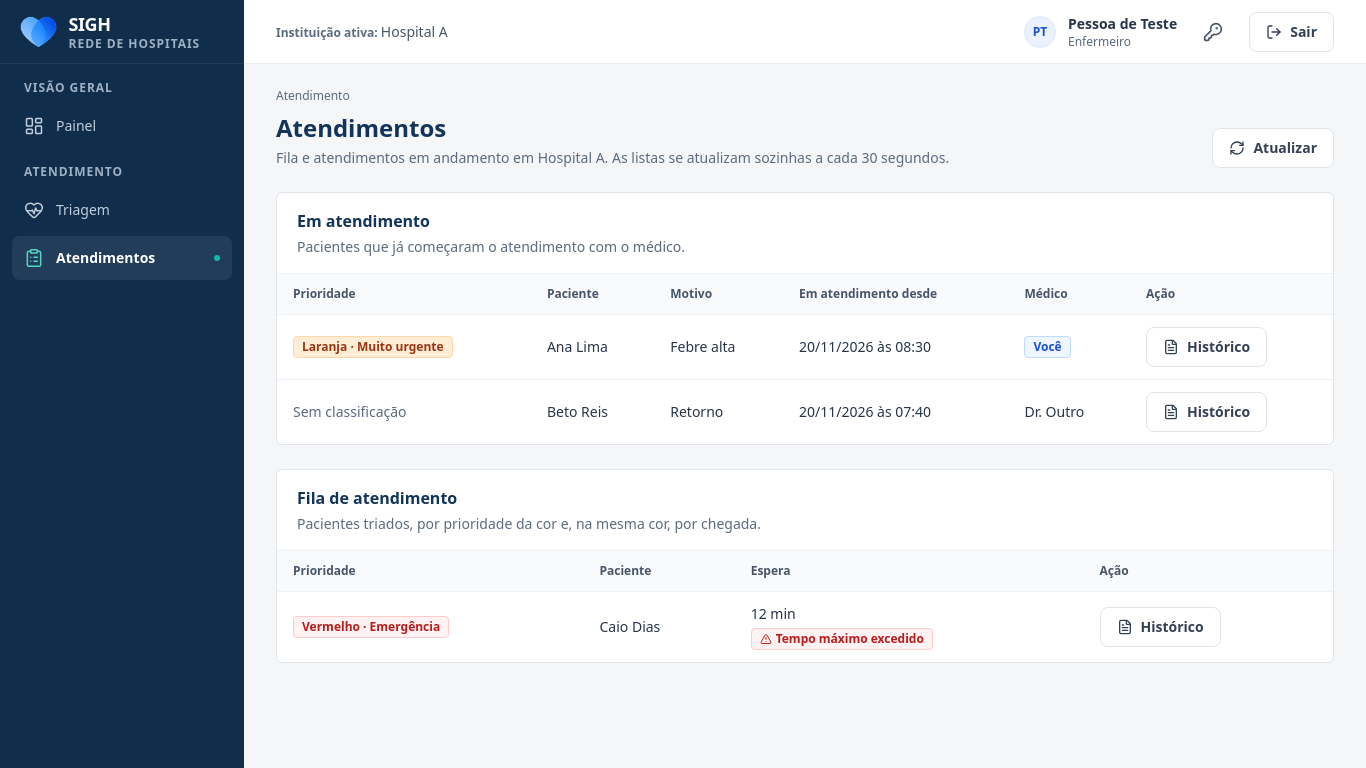
FE-07: listas do médico › o enfermeiro vê as listas, sem abrir o atendimento: consulta o histórico
expect the text "Ana Lima" is shown: met, box [547,337,608,356]
Click the button with aria-label "Histórico de Ana Lima" at (1207, 347), box [1146,327,1267,367]
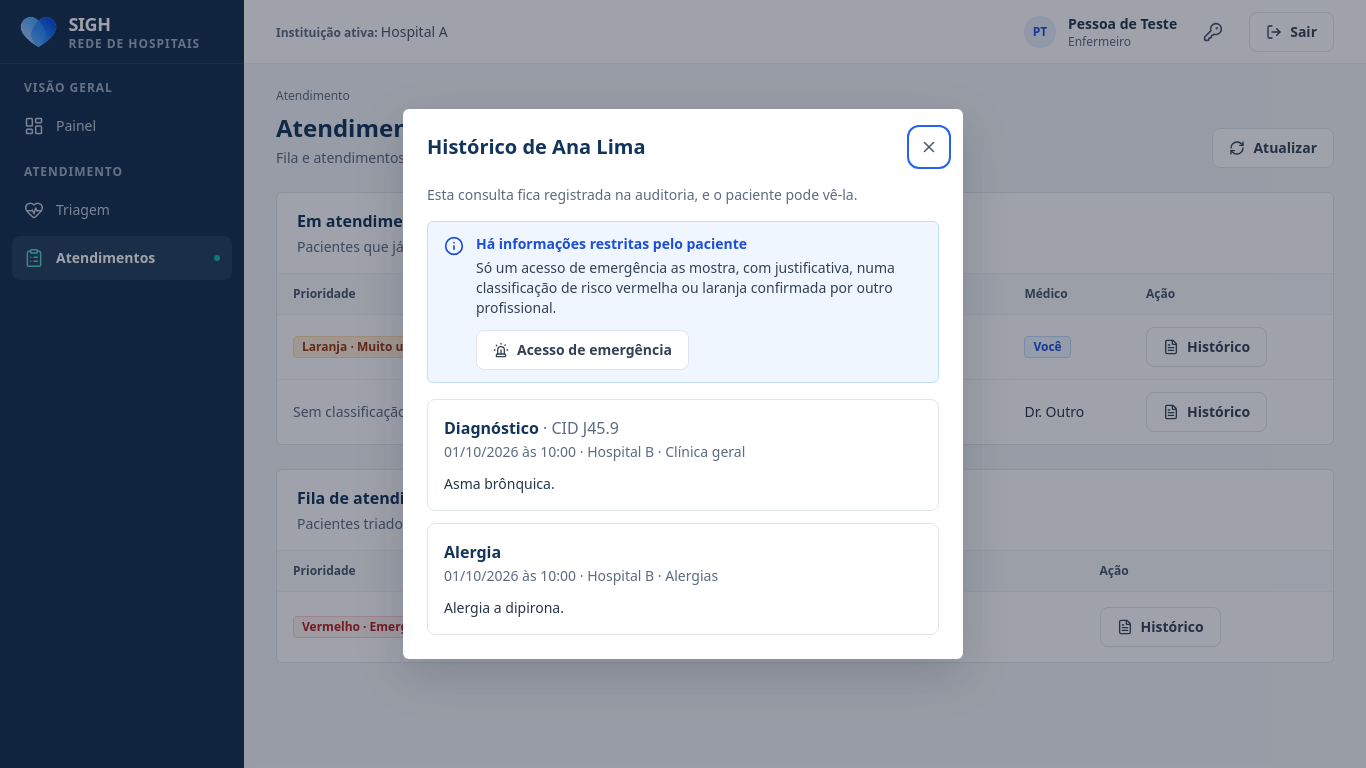
expect the text "Asma brônquica." is shown: met, box [444,474,555,493]
